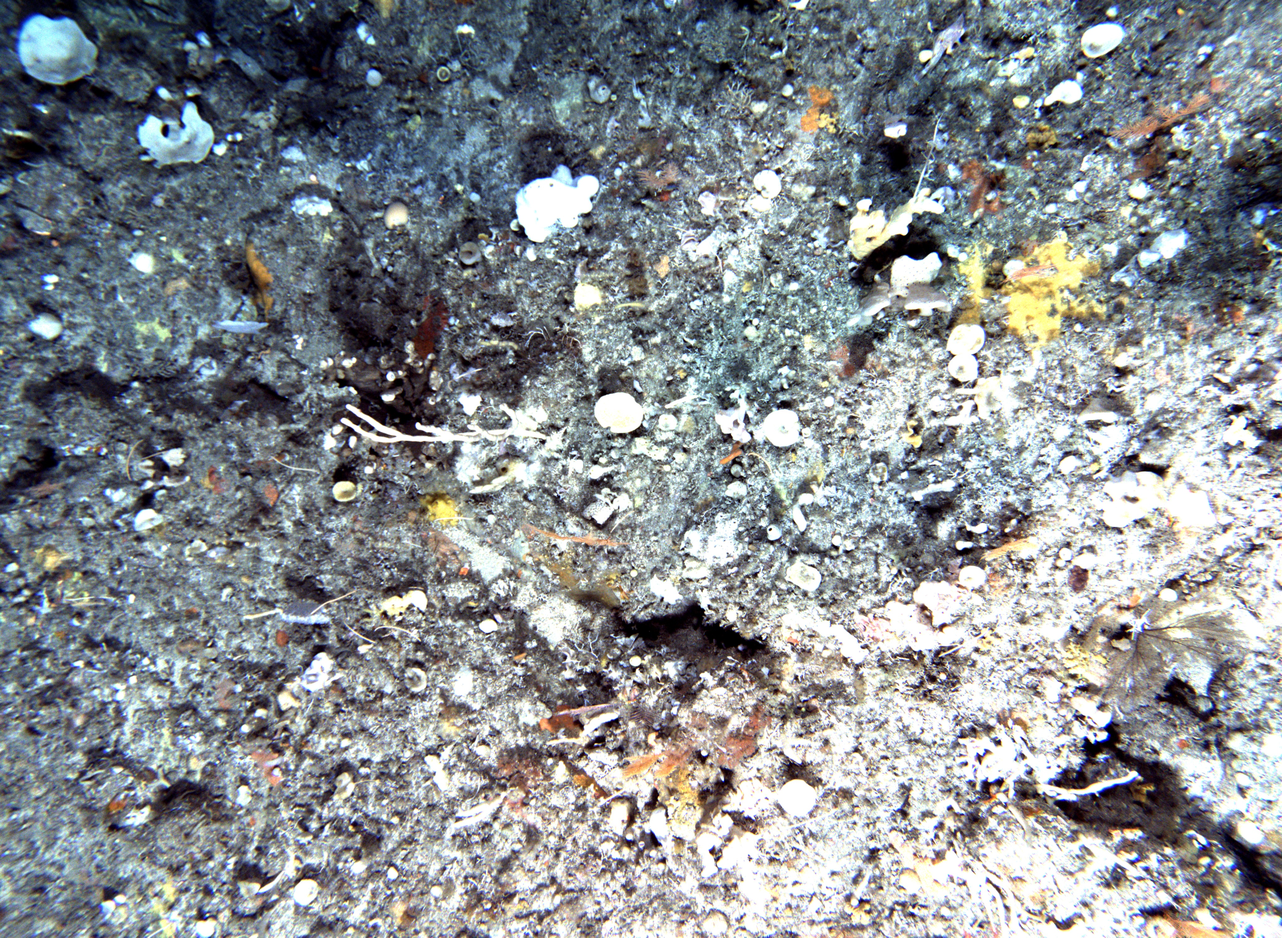Brachionichthyidae: (911, 11, 966, 85)
